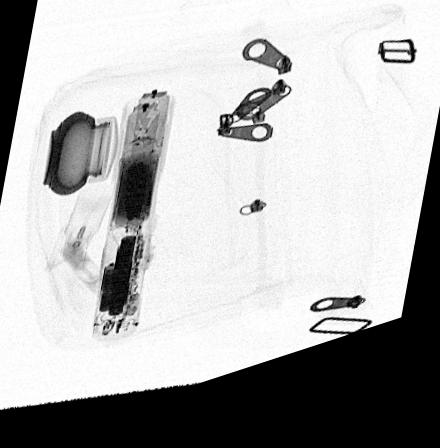Baton: (90, 98, 177, 348)
